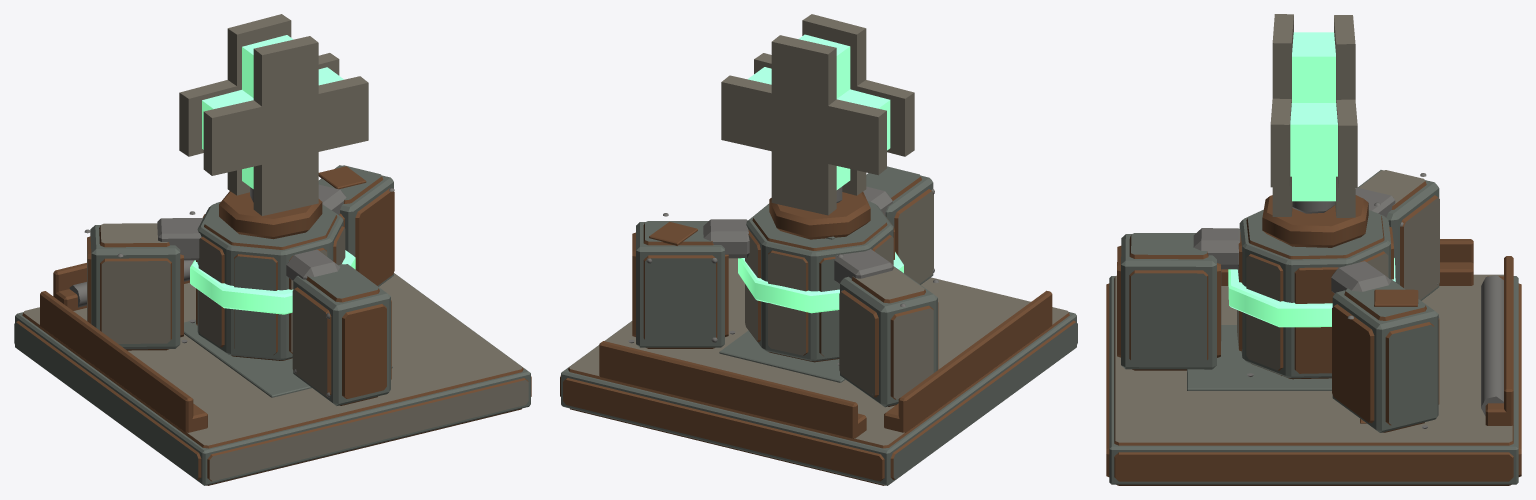
Rendered from R4X_RepairTurretDeployer.fbx.
3 views of the same model, side by side, from view 1: azimuth 30°, elevation 25°; view 2: azimuth 150°, elevation 25°; view 3: azimuth 270°, elevation 25° (orthographic). The views are drawn at different scales.
Parts seen in each view (by area): view 1: R4X_RepairTurretDeployer_Body, R4X_RepairTurretDeployer_Pod; view 2: R4X_RepairTurretDeployer_Body, R4X_RepairTurretDeployer_Pod; view 3: R4X_RepairTurretDeployer_Body, R4X_RepairTurretDeployer_Pod.
Part boxes in pixels (x1,y1,x2,y2): R4X_RepairTurretDeployer_Body: (14, 165, 531, 485); R4X_RepairTurretDeployer_Pod: (179, 14, 368, 360); R4X_RepairTurretDeployer_Body: (560, 166, 1077, 485); R4X_RepairTurretDeployer_Pod: (721, 14, 914, 365); R4X_RepairTurretDeployer_Body: (1106, 170, 1521, 485); R4X_RepairTurretDeployer_Pod: (1228, 14, 1395, 379).
Size of the model in its own units: 0.52 by 0.515 by 0.52.
